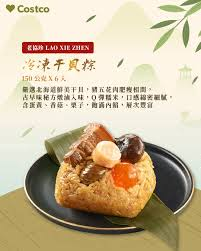zongzi: (55, 124, 155, 217)
